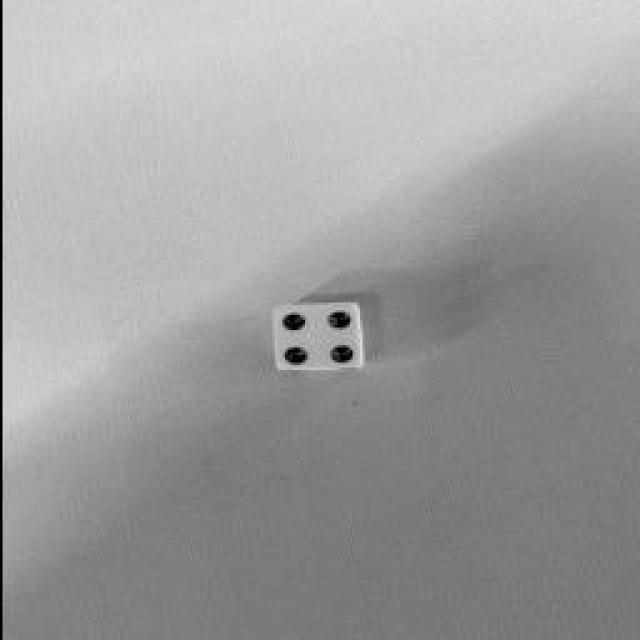dice_4: (272, 302, 360, 368)
